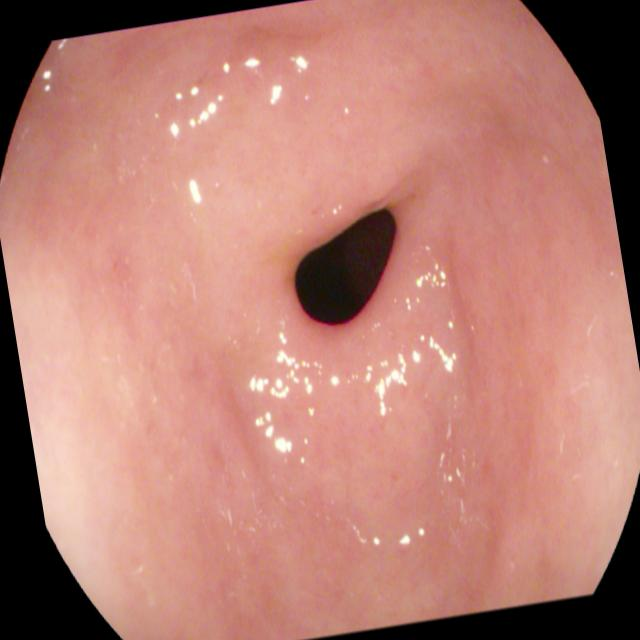normal-pylorus: (273, 100, 492, 268)
